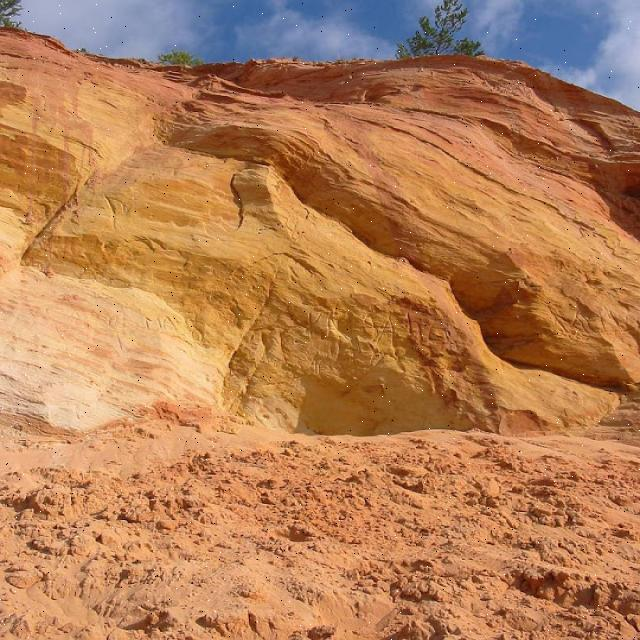Sedimentary: (3, 25, 639, 444)
